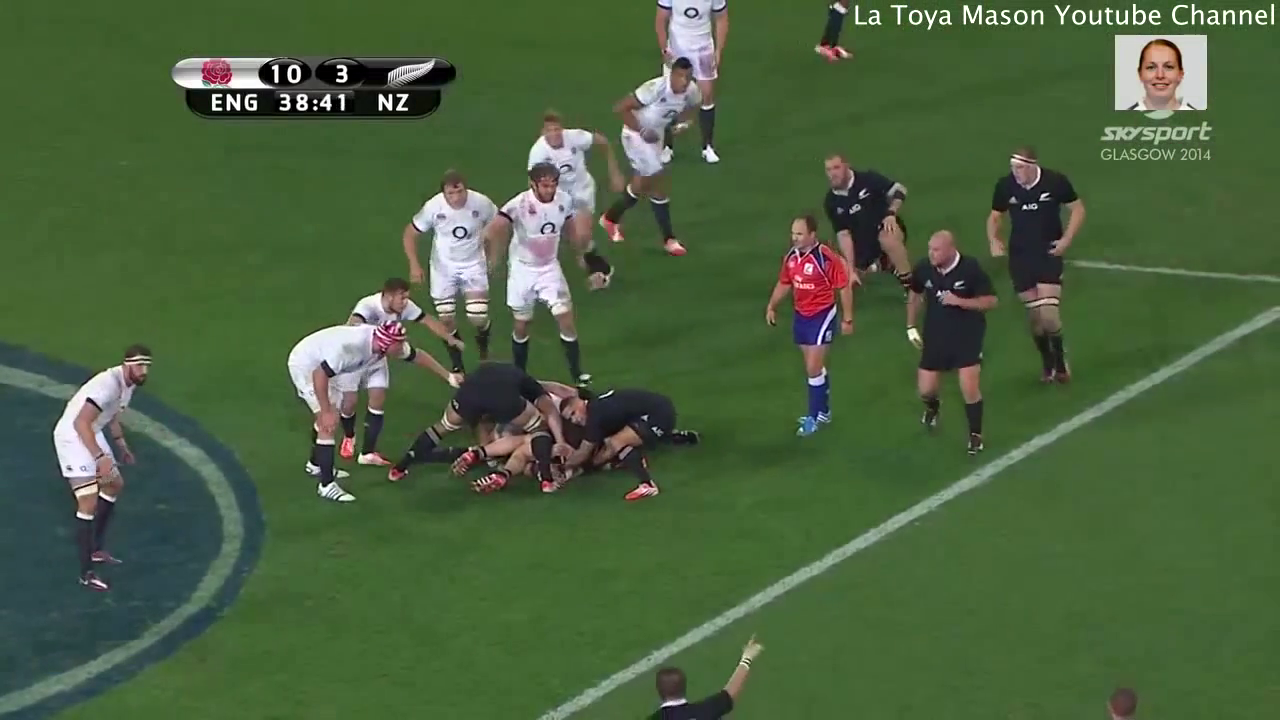player: (261, 312, 476, 506), (978, 138, 1098, 398), (45, 332, 162, 594), (887, 224, 1003, 472), (377, 354, 564, 504), (592, 47, 711, 275), (390, 157, 507, 384), (756, 207, 862, 444), (480, 160, 593, 381), (520, 105, 627, 300), (814, 142, 927, 306), (553, 377, 684, 508), (646, 1, 736, 174), (637, 619, 776, 720), (342, 272, 474, 356), (806, 1, 862, 64), (1087, 669, 1152, 720)
ruck: (397, 348, 714, 512)
